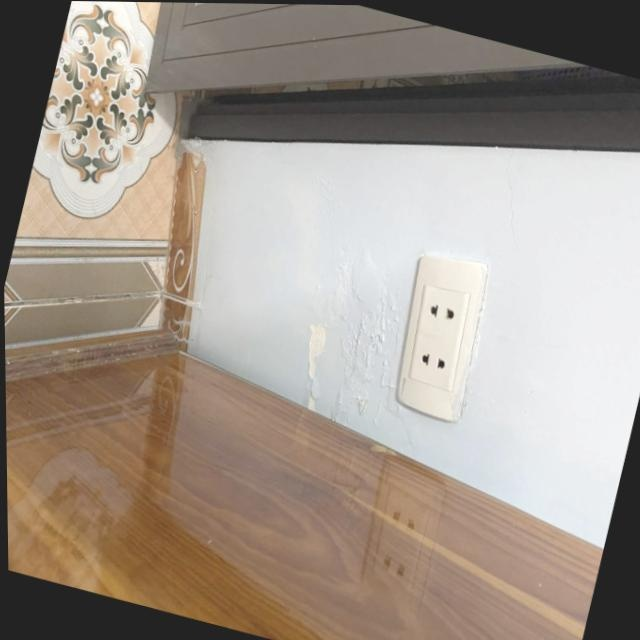outlet: (381, 245, 500, 425)
